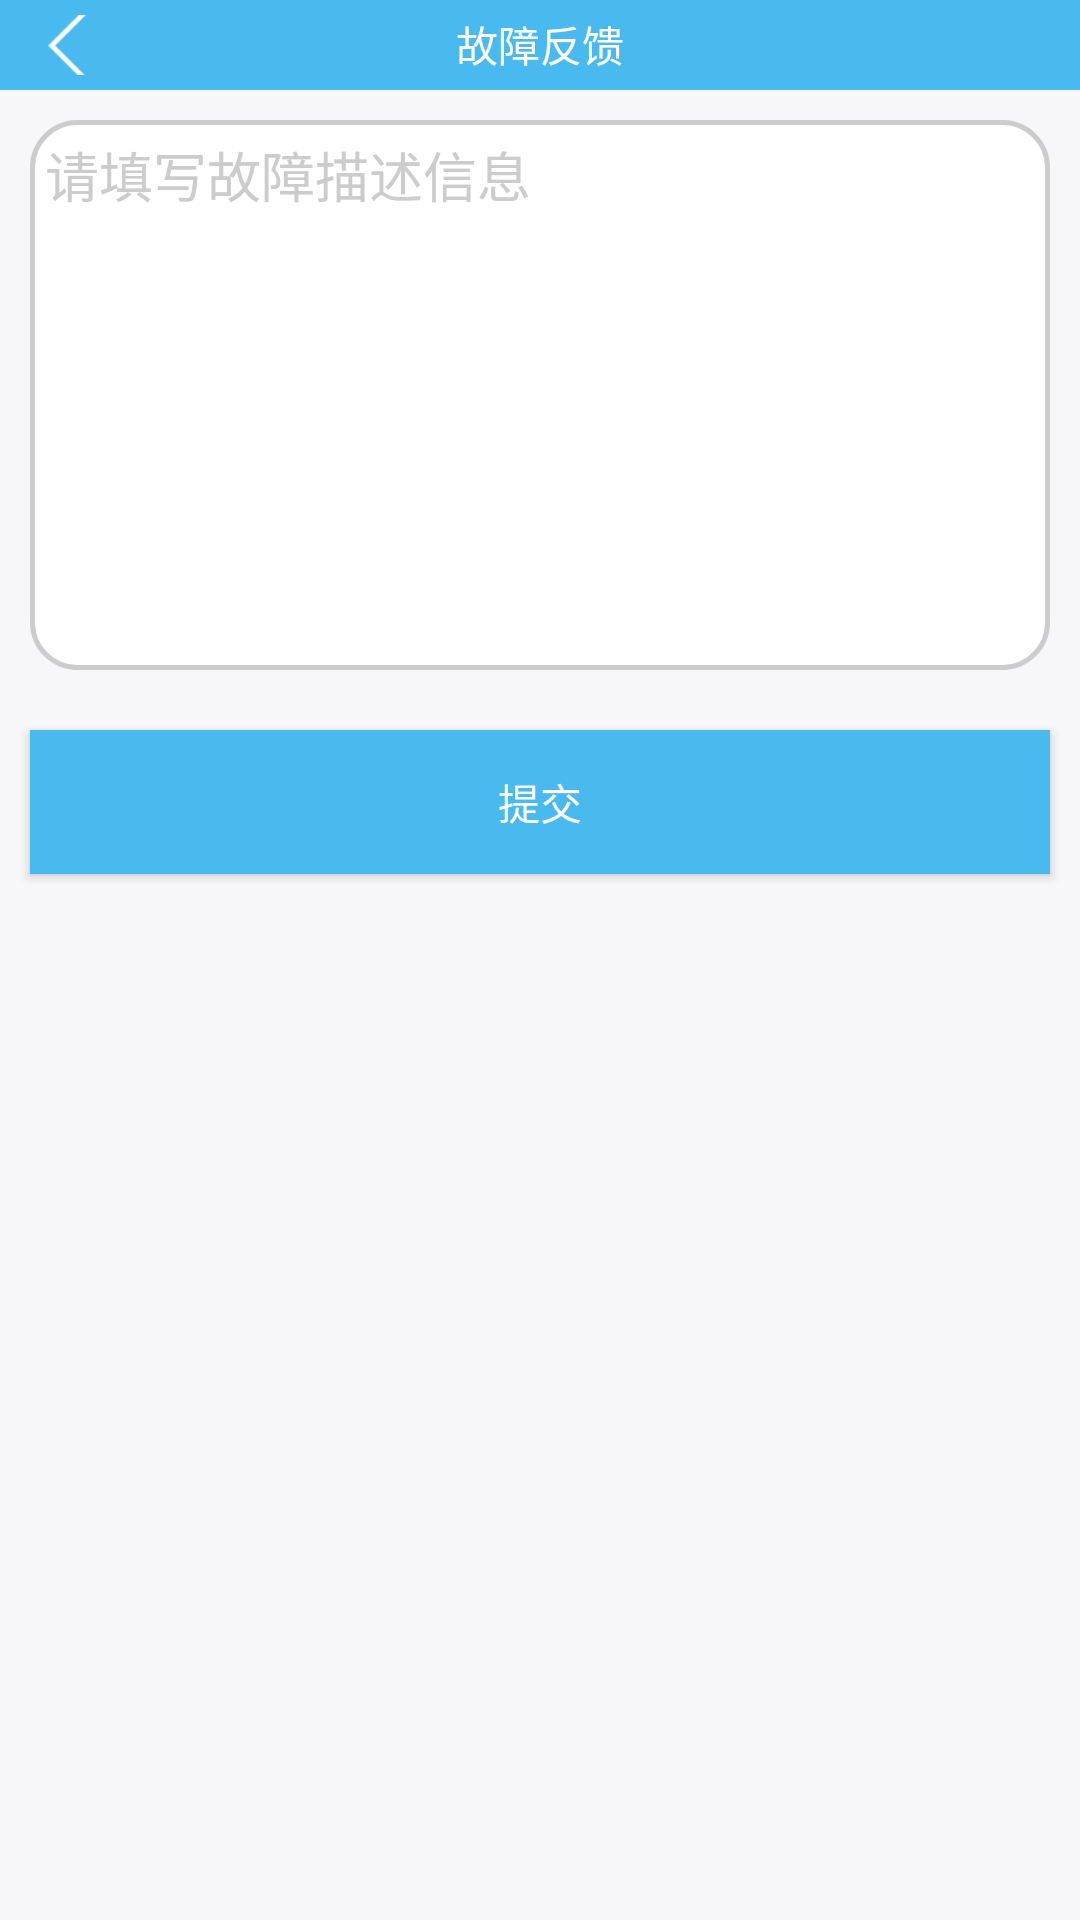

Screen size 1080x1920. Icon name, then its center in pixels as (x,y):
jiantou: (67,45)
